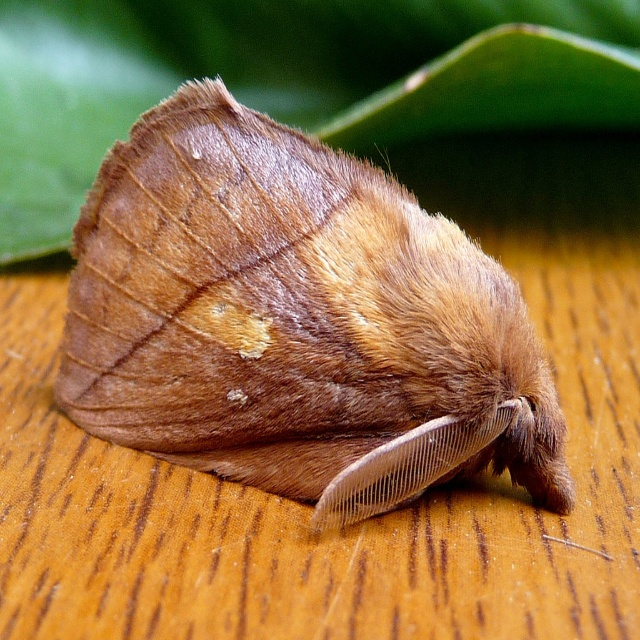Moths and butterflies: (55, 70, 575, 534)
